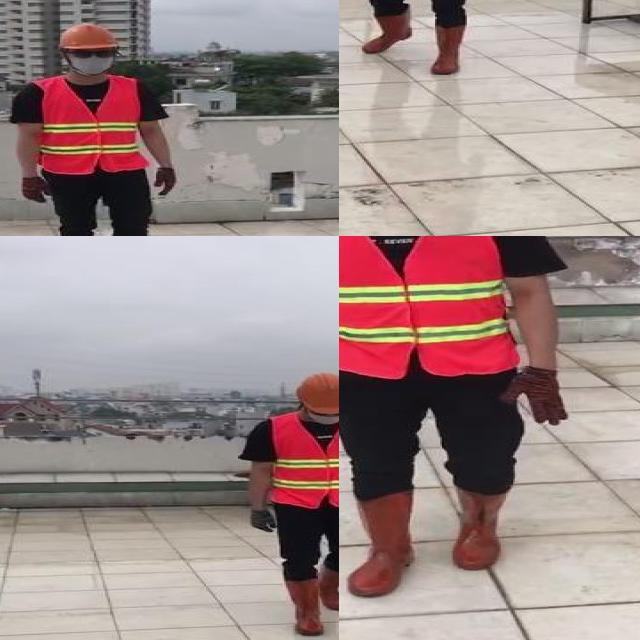boots: (342, 494, 413, 597), (449, 488, 506, 570), (284, 579, 327, 637), (362, 9, 412, 54), (428, 24, 467, 76), (319, 564, 339, 610)
face_mask: (66, 47, 116, 74)
glasses: (70, 48, 116, 61)
hand_glove: (502, 367, 566, 426), (21, 175, 53, 205), (249, 507, 277, 531), (156, 167, 176, 198)
head_helmet: (292, 371, 339, 416), (56, 23, 118, 51)
person: (339, 236, 571, 598), (8, 18, 187, 236), (229, 372, 339, 640), (345, 0, 503, 78)
vest: (339, 236, 516, 374), (37, 76, 145, 173), (269, 413, 339, 508)
